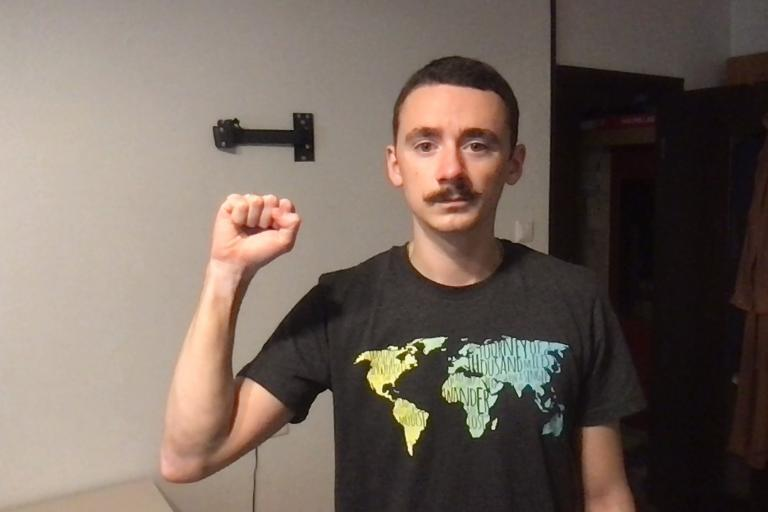fist: (208, 191, 302, 267)
